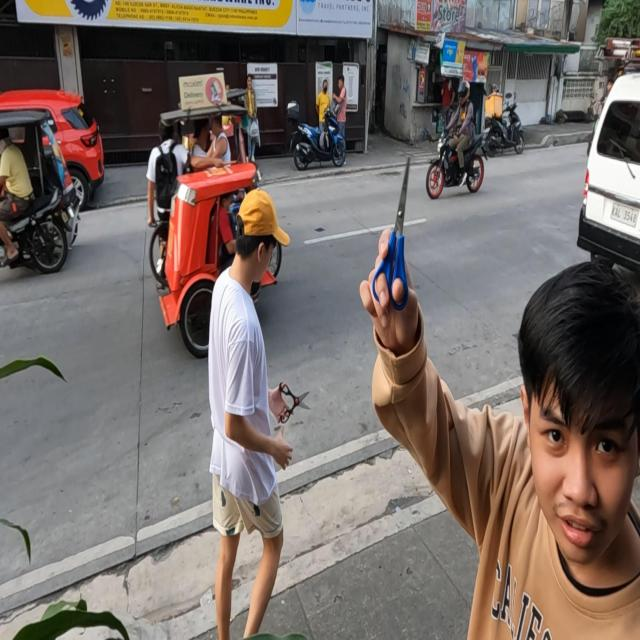scissor: (373, 154, 411, 309), (278, 381, 310, 424)
